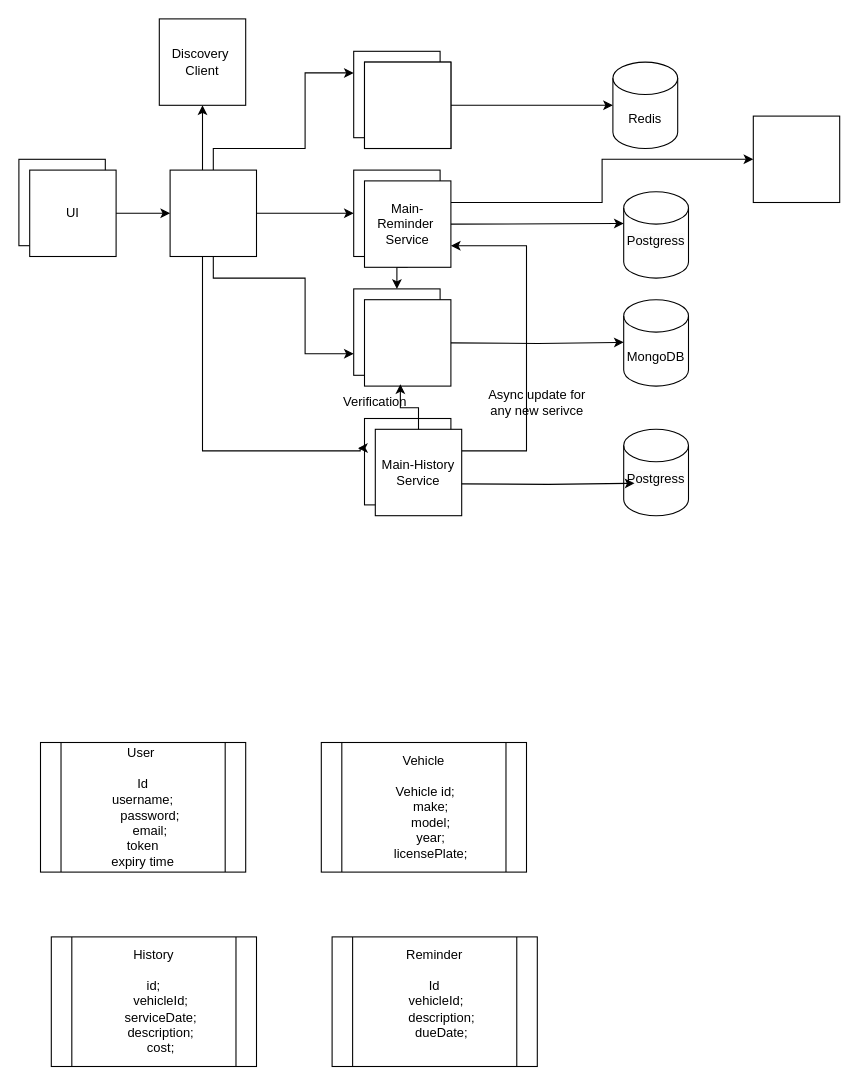
Image size: 859x1085. Some labels were removed from this diagram. Here are the shapes that lost their labels. From the top down, the centre of each, then its label:
point 407,104: UserAuth Service
point 796,158: Notification Service push email/sms
point 212,212: API GETAWAY
point 407,342: Vehicle Mgmt Service
